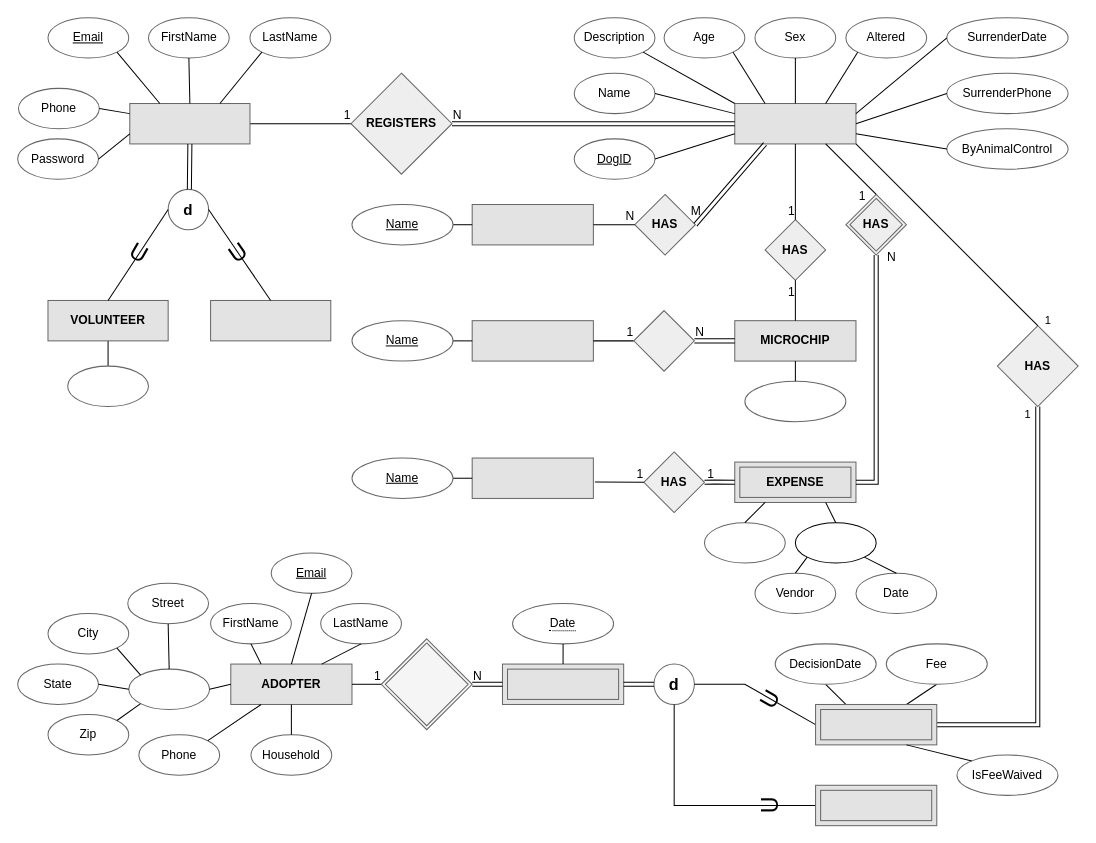
The diagram is 1096 pixels wide and 843 high, and some of its shapes have lost their labels. The shapes that lost their labels are listed below. From the top down, each one's centre as x and y in pixels, then its label:
At [189,123]: "USER".
At [795,123]: "DOG".
At [532,224]: "BREED".
At [270,320]: "DIRECTOR".
At [532,340]: "MANUFACTURER".
At [663,340]: "MAKES".
At [107,386]: "BirthDate".
At [795,401]: "MicrochipID".
At [532,477]: "CATEGORY".
At [744,542]: "Amount".
At [835,542]: "VendorDate".
At [169,689]: "Address".
At [426,684]: "REQUESTS".
At [562,683]: "APPLICATION".
At [876,724]: "ADOPTION".
At [876,805]: "REJECTION".
